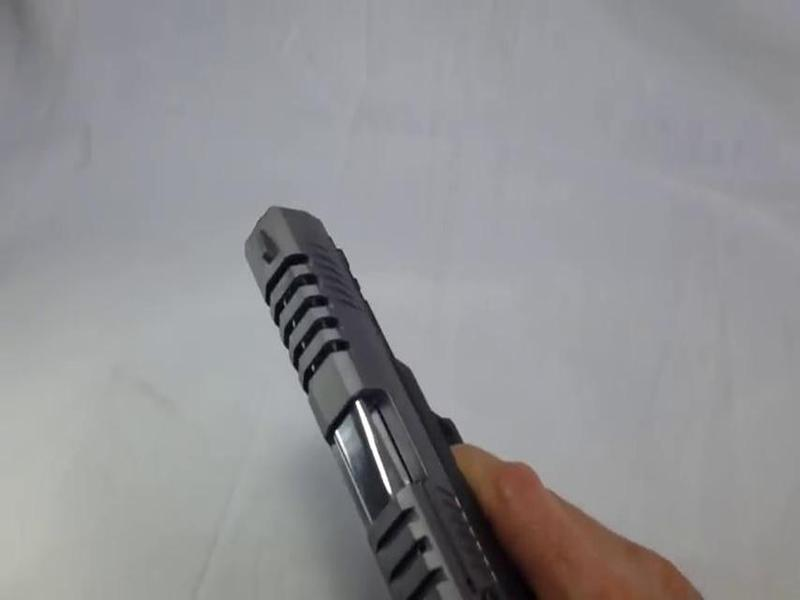Pistola: (167, 170, 541, 592)
